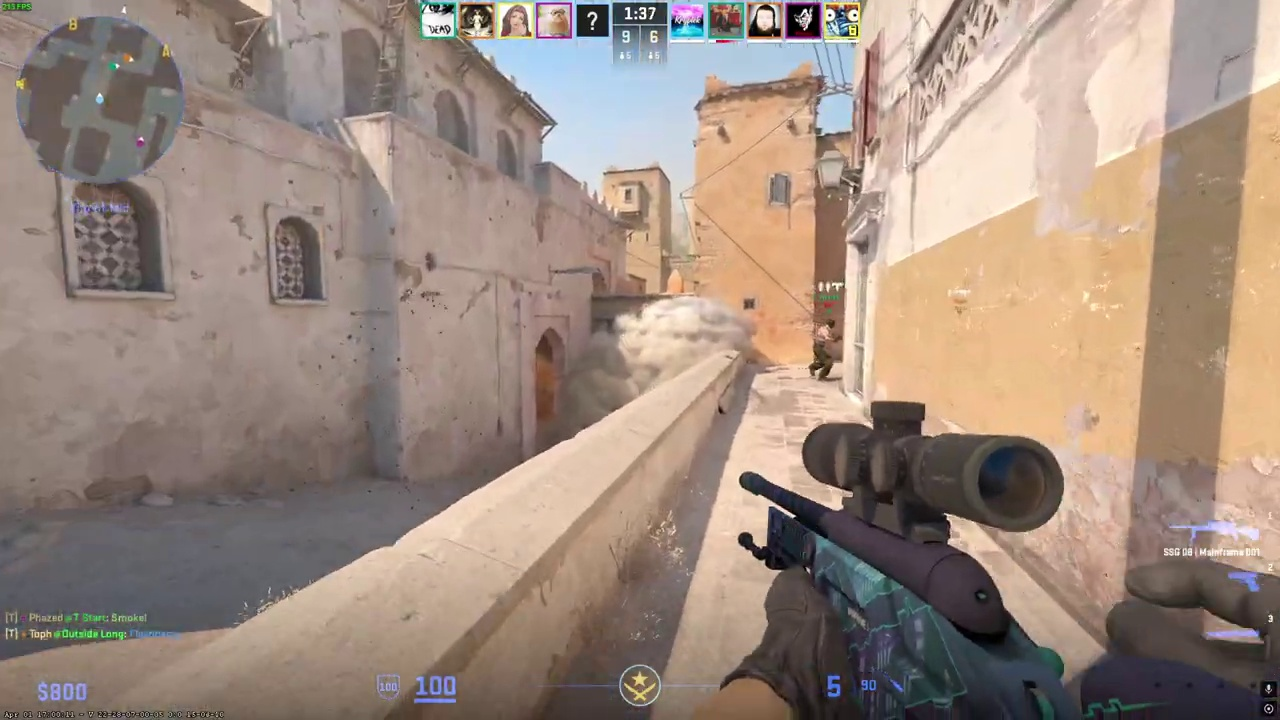Terrorist: (809, 318, 839, 381)
